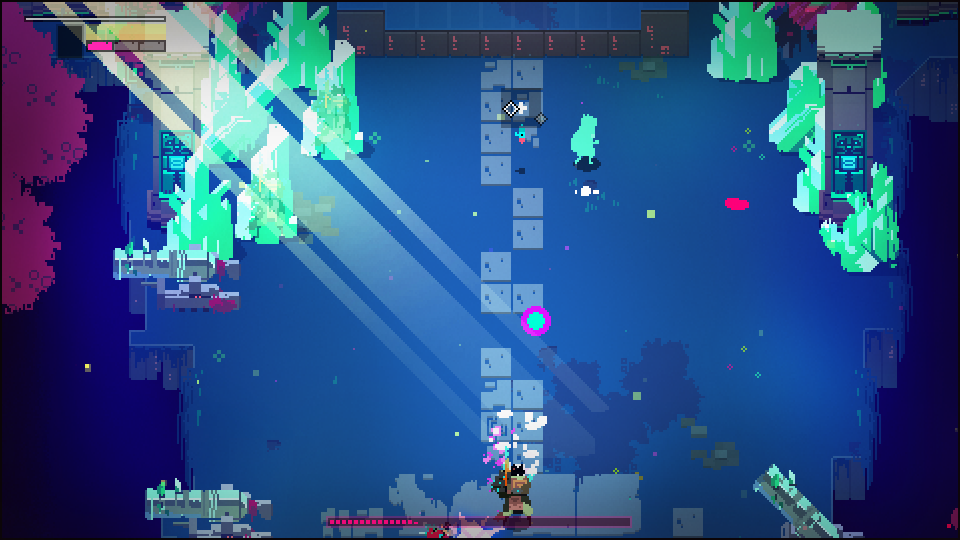hanged_shot: (518, 305, 552, 337)
player: (569, 111, 603, 168)
